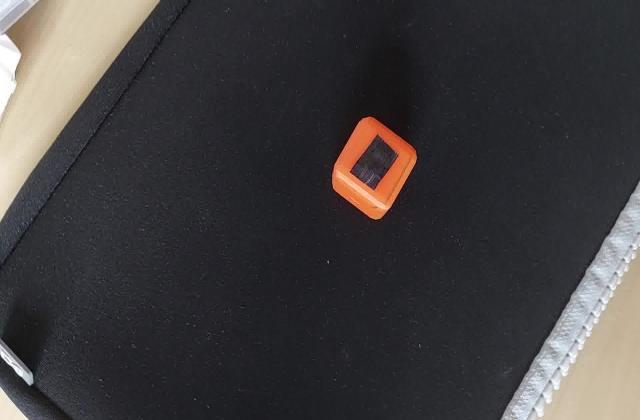black: (344, 136, 403, 191)
sticker: (328, 114, 418, 223)
